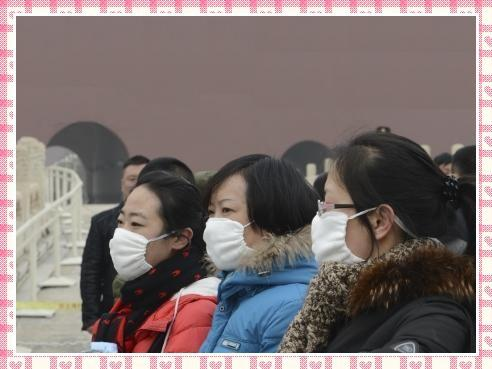OK: (310, 195, 398, 277), (109, 207, 181, 279), (203, 203, 275, 270)
